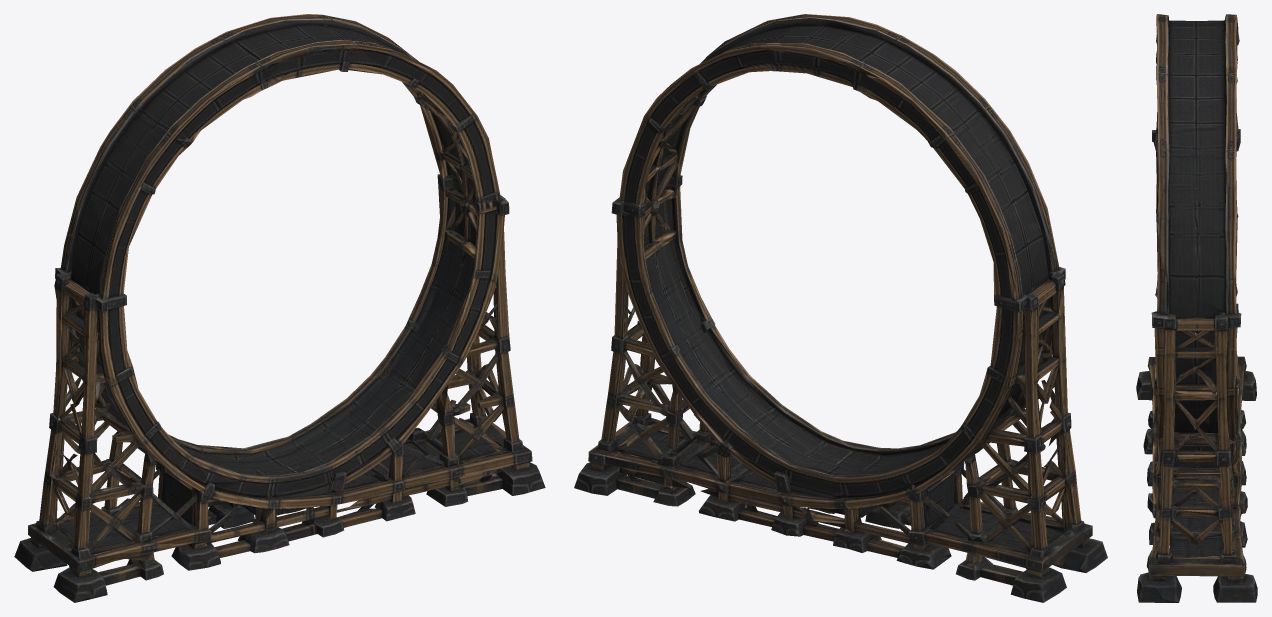
The model's file is stunt-giant-loop.glb.
3 renders of one model, left to right at view 1: azimuth 30°, elevation 25°; view 2: azimuth 150°, elevation 25°; view 3: azimuth 270°, elevation 25°, orthographic. The views are drawn at different scales.
Size of the model in its own units: 1.9 by 1.87 by 0.445.
Materials: 1 (1 with a texture image).
